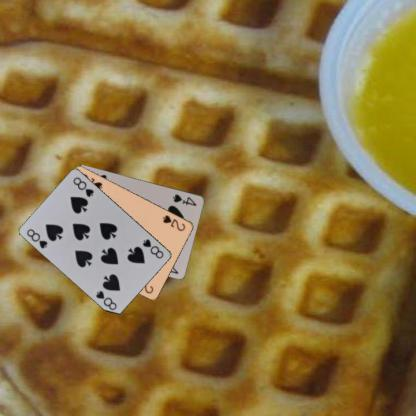2s: (160, 212, 187, 232)
4s: (171, 191, 198, 207)
8s: (140, 236, 166, 260), (24, 226, 49, 249)
